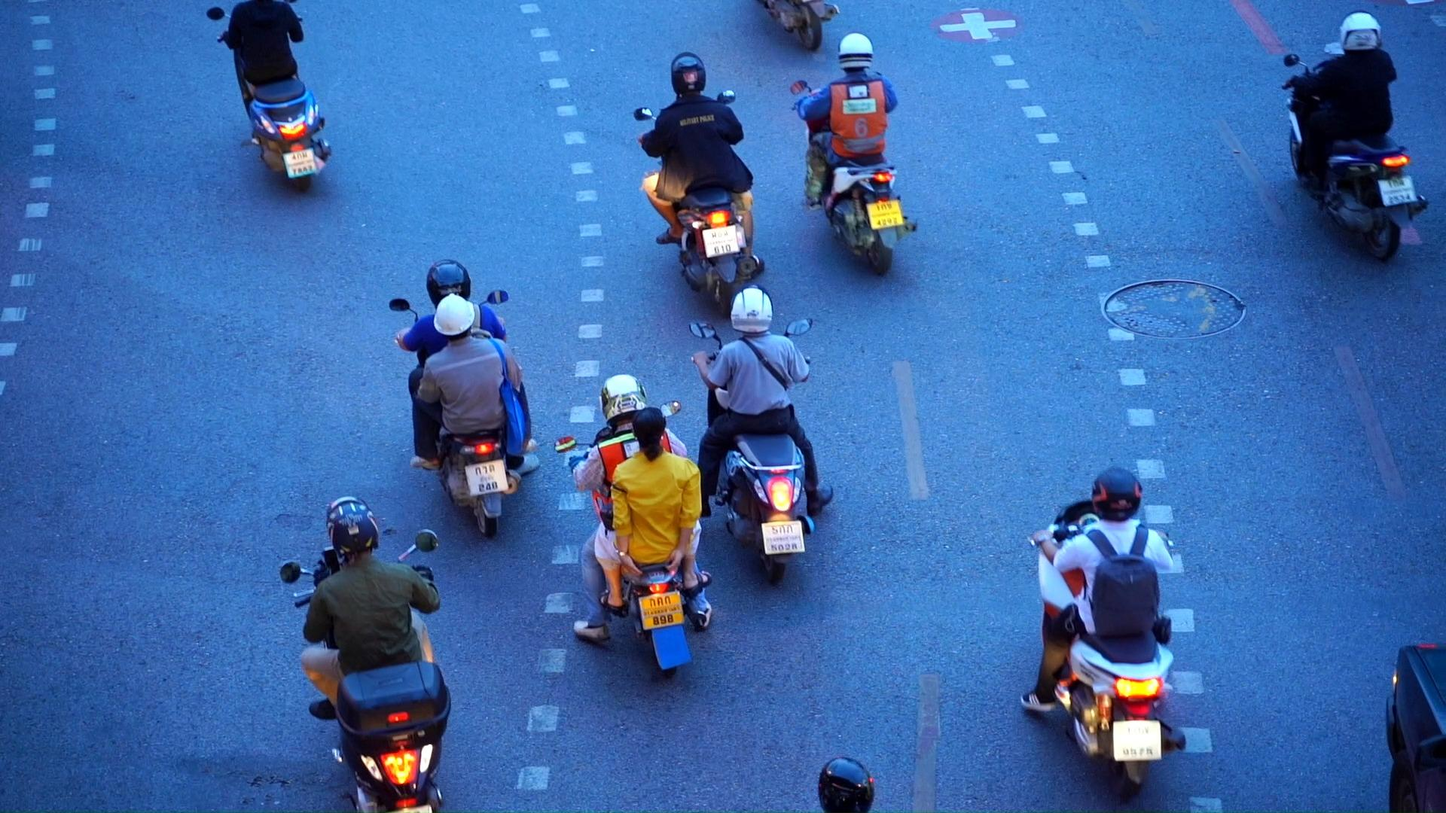driver: (1018, 466, 1187, 804), (278, 495, 452, 813), (554, 375, 713, 679), (688, 283, 834, 583), (388, 258, 539, 539), (1282, 10, 1432, 262), (630, 52, 766, 316), (791, 32, 920, 276), (207, 0, 332, 193)
helmet: (326, 495, 379, 559), (818, 756, 874, 813), (1091, 466, 1142, 522), (599, 374, 648, 425), (427, 258, 471, 310), (730, 283, 774, 334), (433, 293, 475, 342), (1340, 10, 1382, 52), (670, 52, 706, 100), (838, 32, 873, 70)
no-helmet: (632, 407, 666, 462)
